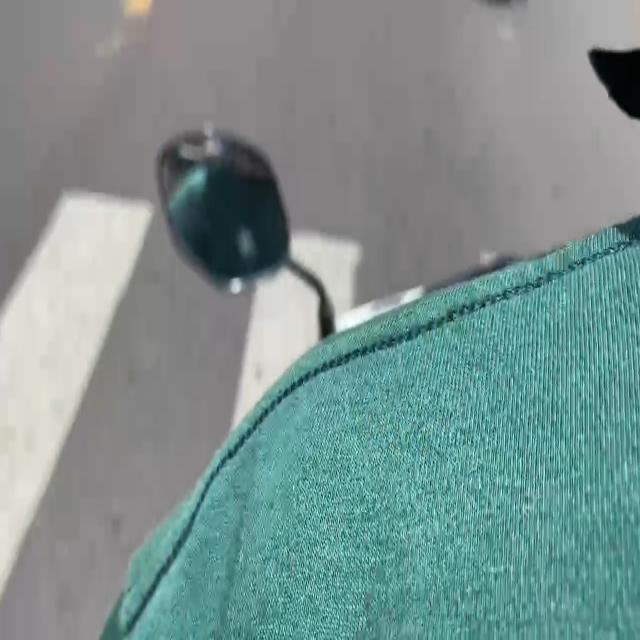walk-crossing: (0, 183, 366, 640)
